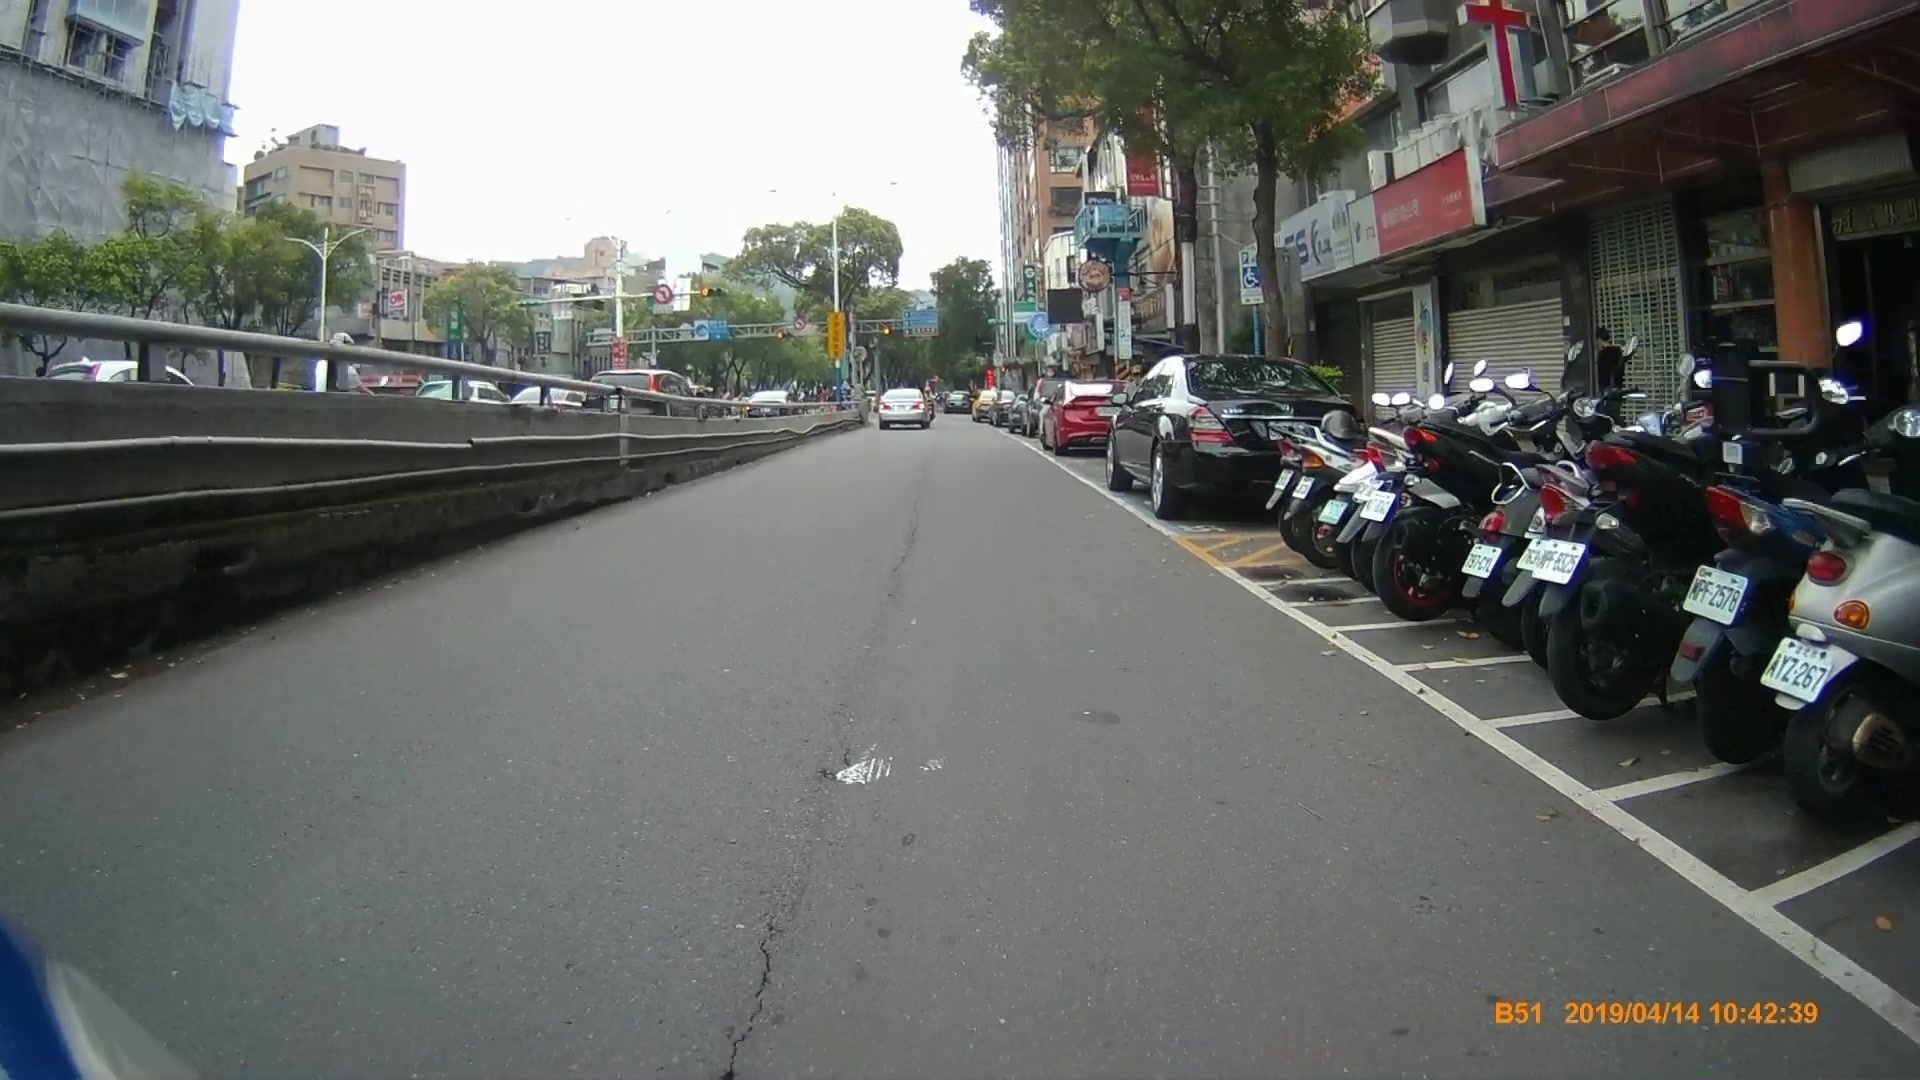License_plate: (1761, 633, 1831, 701), (1687, 560, 1747, 625), (1535, 540, 1584, 583), (1361, 486, 1393, 525), (1467, 540, 1497, 580)
